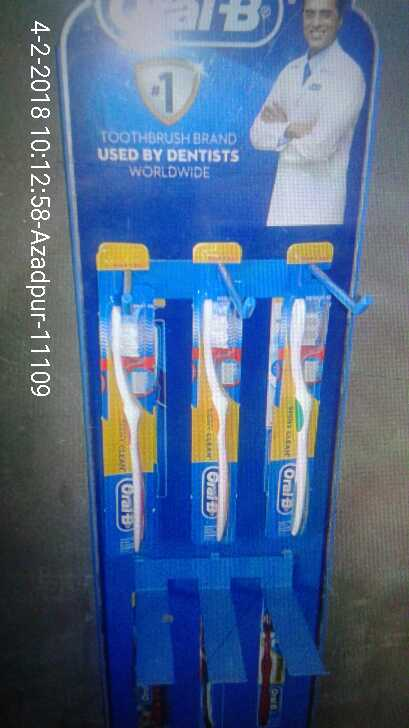oralb: (101, 303, 160, 551), (195, 296, 247, 539), (280, 298, 329, 543)
